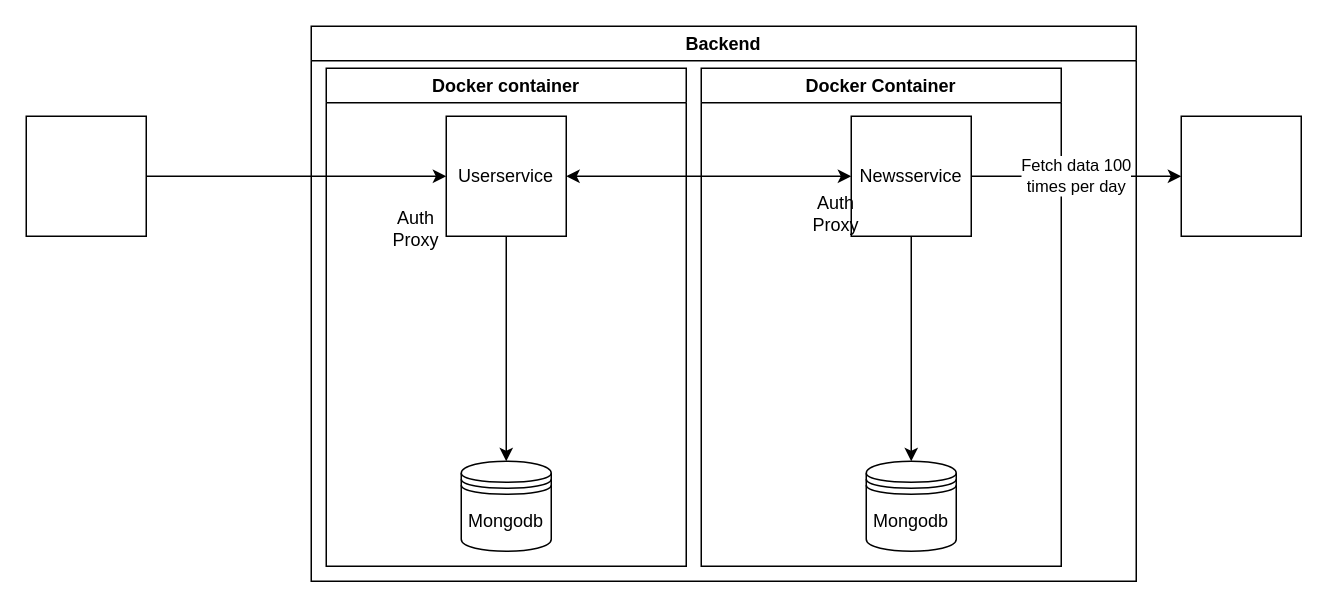
Image size: 1328x608. Some labels were removed from this diagram. Each missing label, with the centre of its shape:
"News API" belongs at pixel 1240 175.
"React frontend" belongs at pixel 85 175.
